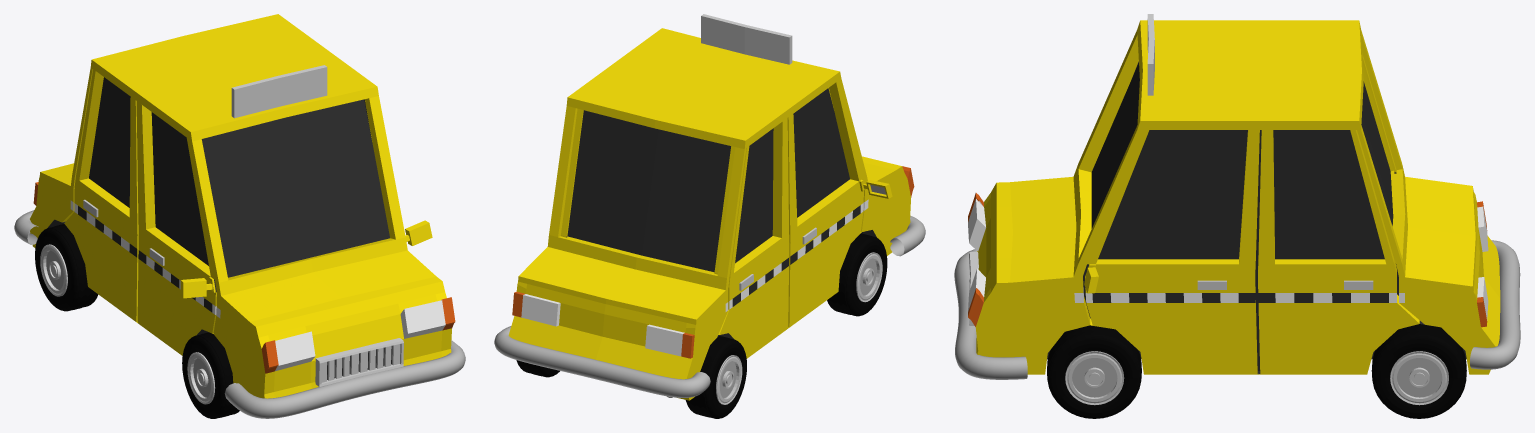
The model's file is CR-TAXI-1A.fbx.
The picture shows the model from 3 angles, left to right: view 1: azimuth 30°, elevation 25°; view 2: azimuth 150°, elevation 25°; view 3: azimuth 270°, elevation 25°; orthographic projection. The views are drawn at different scales.
Parts seen in each view (by area): view 1: BODY.001, NurbsPath, WHEEL.004, WHEEL.001, NurbsPath.001; view 2: BODY.001, NurbsPath.001, WHEEL.001, WHEEL.004, NurbsPath; view 3: BODY.001, WHEEL.002, WHEEL.003, NurbsPath, NurbsPath.001.
Boxes of the visible parts, x1,y1,x2,y2 form: BODY.001: (30, 14, 455, 398); NurbsPath: (224, 340, 465, 418); WHEEL.004: (35, 224, 98, 311); WHEEL.001: (182, 332, 239, 418); NurbsPath.001: (14, 210, 38, 244); BODY.001: (508, 14, 914, 400); NurbsPath.001: (494, 326, 710, 397); WHEEL.001: (827, 233, 887, 316); WHEEL.004: (685, 336, 746, 418); NurbsPath: (890, 215, 925, 256); BODY.001: (968, 14, 1500, 374); WHEEL.002: (1371, 324, 1466, 418); WHEEL.003: (1047, 325, 1141, 418); NurbsPath: (954, 249, 1027, 379); NurbsPath.001: (1470, 240, 1520, 369).
Size of the model in its own units: 131 by 148 by 233.
